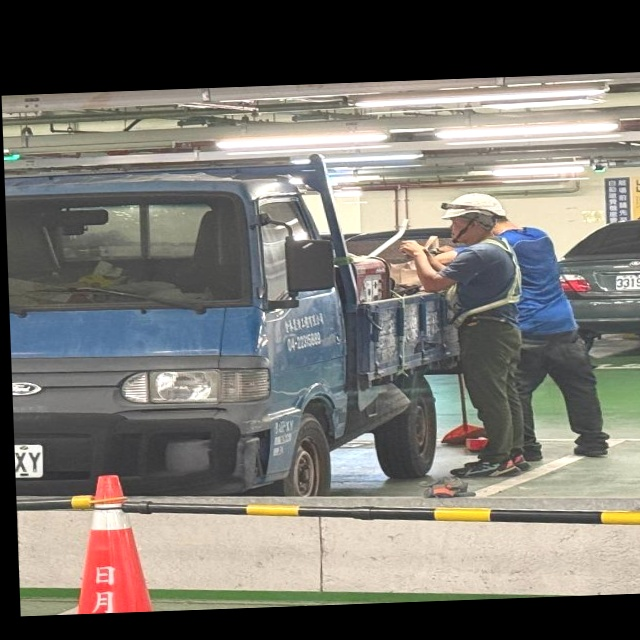Con_Casco: (437, 192, 505, 244)
